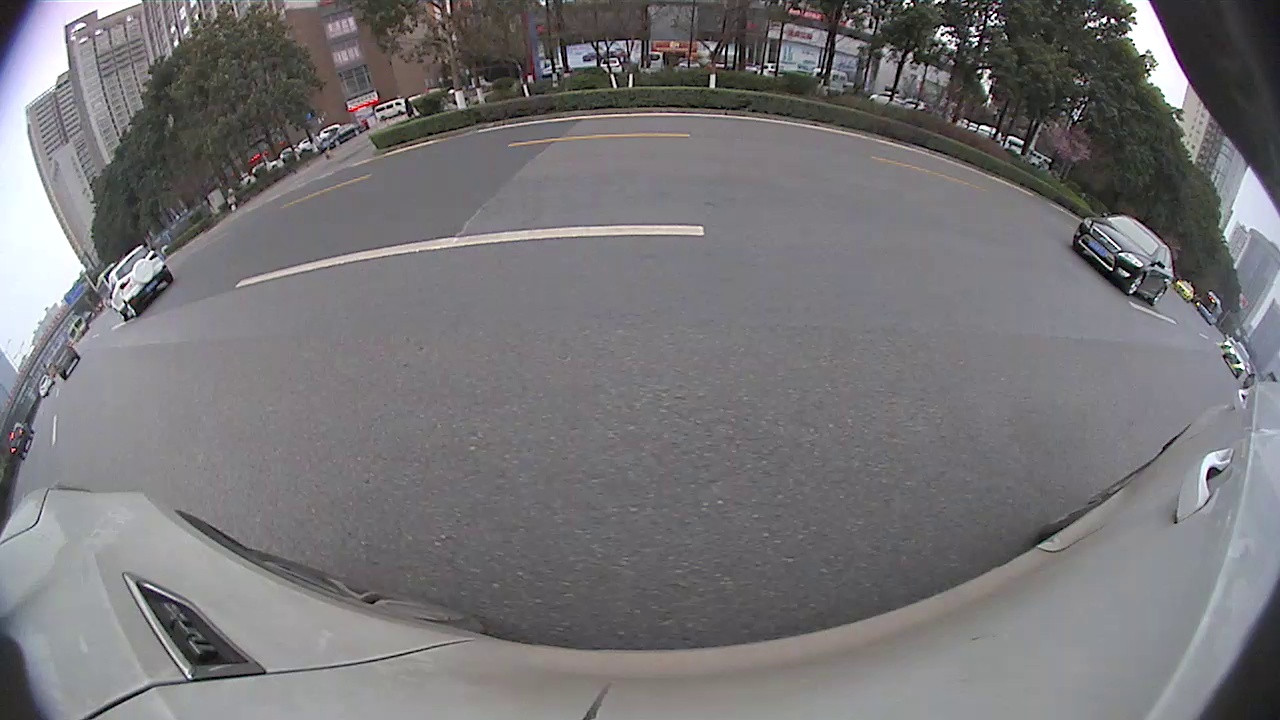bus: (732, 27, 1074, 269)
car: (1075, 196, 1279, 399), (500, 156, 567, 201), (595, 150, 655, 196), (695, 157, 730, 190)
front: (1075, 263, 1114, 308), (730, 174, 748, 206)
rear: (813, 188, 850, 239)
